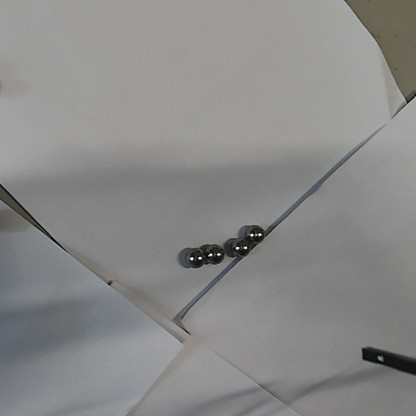ironball: (204, 241, 224, 265), (185, 246, 204, 267), (246, 225, 263, 244), (232, 238, 249, 255)
